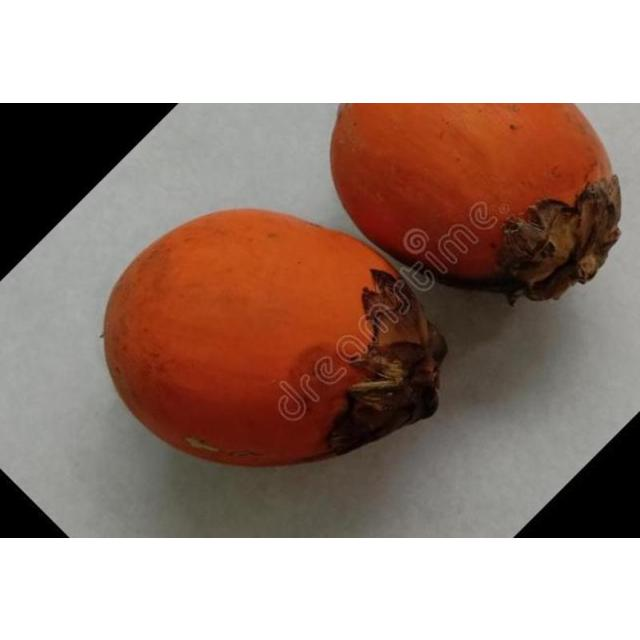good: (102, 208, 448, 468), (330, 102, 622, 301)
